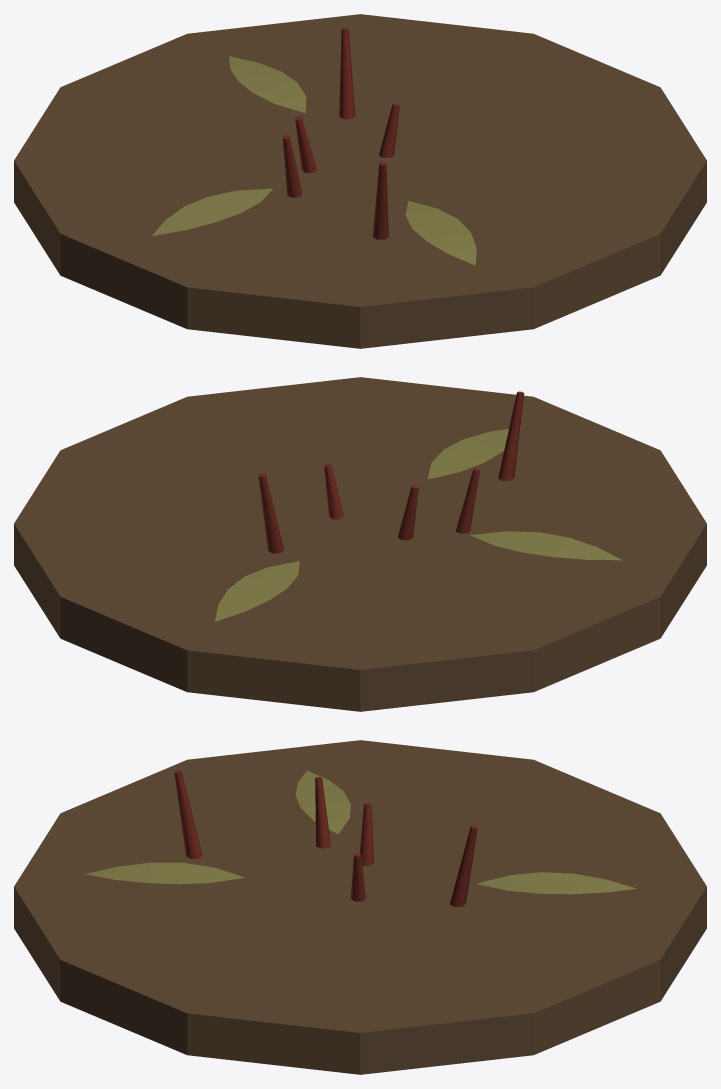
The model's file is glutwurz-geerntet.glb.
3 renders of one model, top to bottom at view 1: azimuth 30°, elevation 25°; view 2: azimuth 150°, elevation 25°; view 3: azimuth 270°, elevation 25°, orthographic.
Visible parts, largest first — view 1: glutwurz; view 2: glutwurz; view 3: glutwurz.
Boxes of the visible parts, box(x1,y1,x2,y2) form: glutwurz: box(14, 14, 706, 348); glutwurz: box(14, 377, 706, 711); glutwurz: box(14, 740, 706, 1074).
Bounding box in the file's own units: 0.3 × 0.0589 × 0.3.
